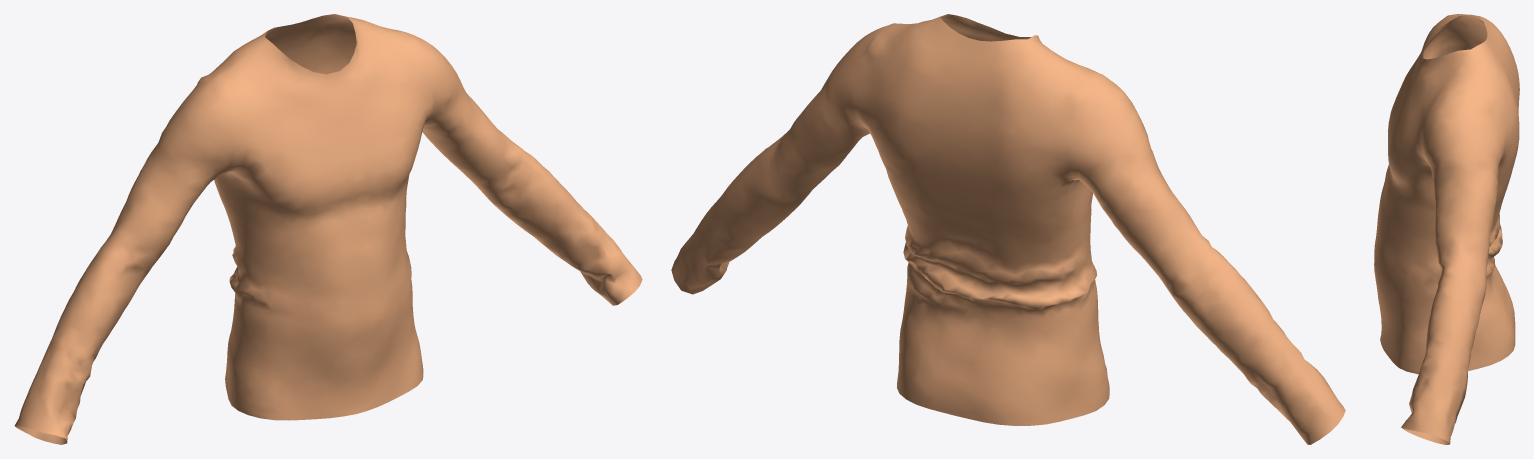
The model's file is Underwear.glb.
3 views of the same model, side by side, from view 1: azimuth 30°, elevation 25°; view 2: azimuth 150°, elevation 25°; view 3: azimuth 270°, elevation 25° (orthographic). The views are drawn at different scales.
Parts seen in each view (by area): view 1: Cloth; view 2: Cloth; view 3: Cloth.
Boxes of the visible parts, x1,y1,x2,y2 form: Cloth: (14,14,642,444); Cloth: (671,14,1345,444); Cloth: (1374,14,1519,444).
Bounding box in the file's own units: 119 × 64.64 × 27.61.
Materials: 6 (6 with a texture image).
